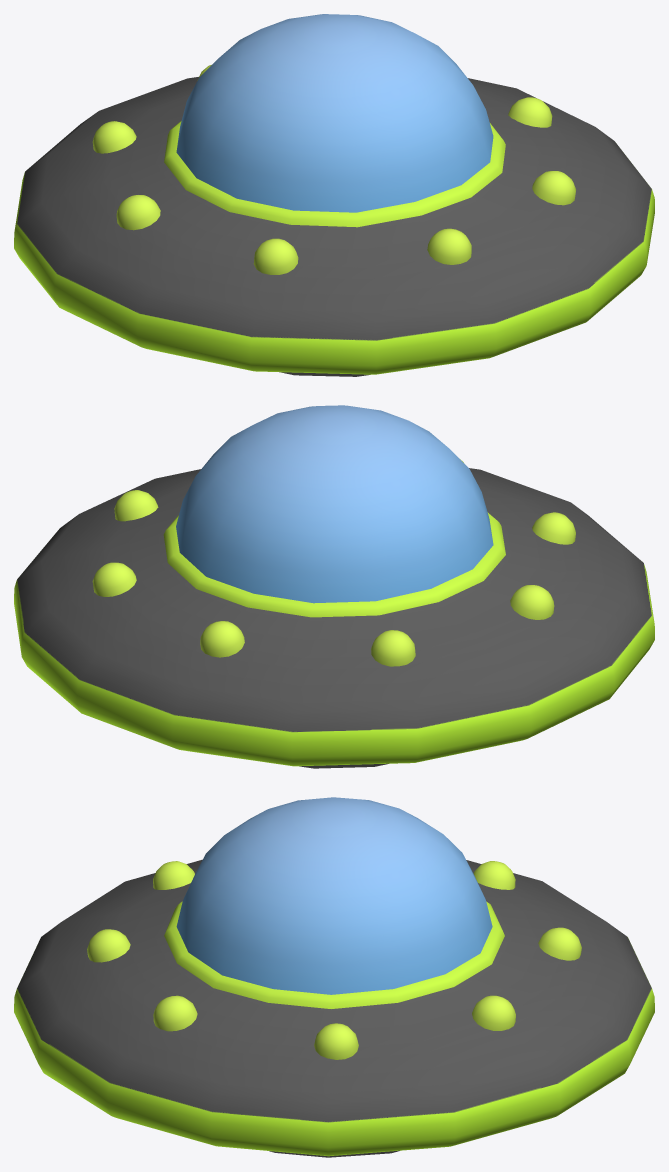
The model's file is UFOModel.fbx.
The picture shows the model from 3 angles, top to bottom: view 1: azimuth 30°, elevation 25°; view 2: azimuth 150°, elevation 25°; view 3: azimuth 270°, elevation 25°; orthographic projection.
Visible parts, largest first — view 1: UFO; view 2: UFO; view 3: UFO.
Part boxes in pixels (x1,y1,x2,y2): UFO: (14, 14, 654, 376); UFO: (14, 405, 654, 768); UFO: (14, 797, 654, 1157).
Size of the model in its own units: 144 by 75.39 by 144.
